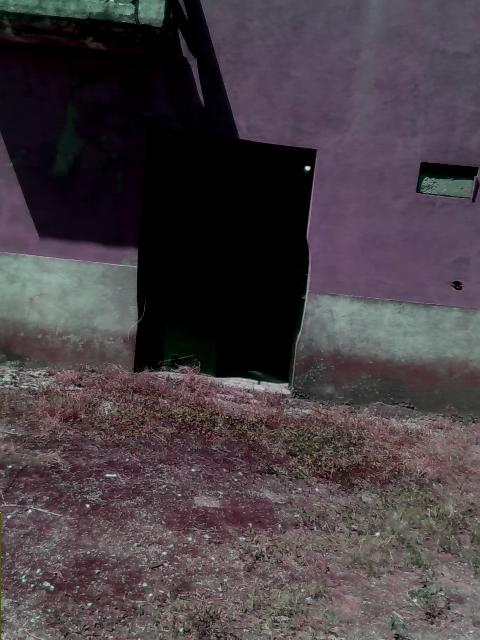open_door: (132, 126, 317, 393)
